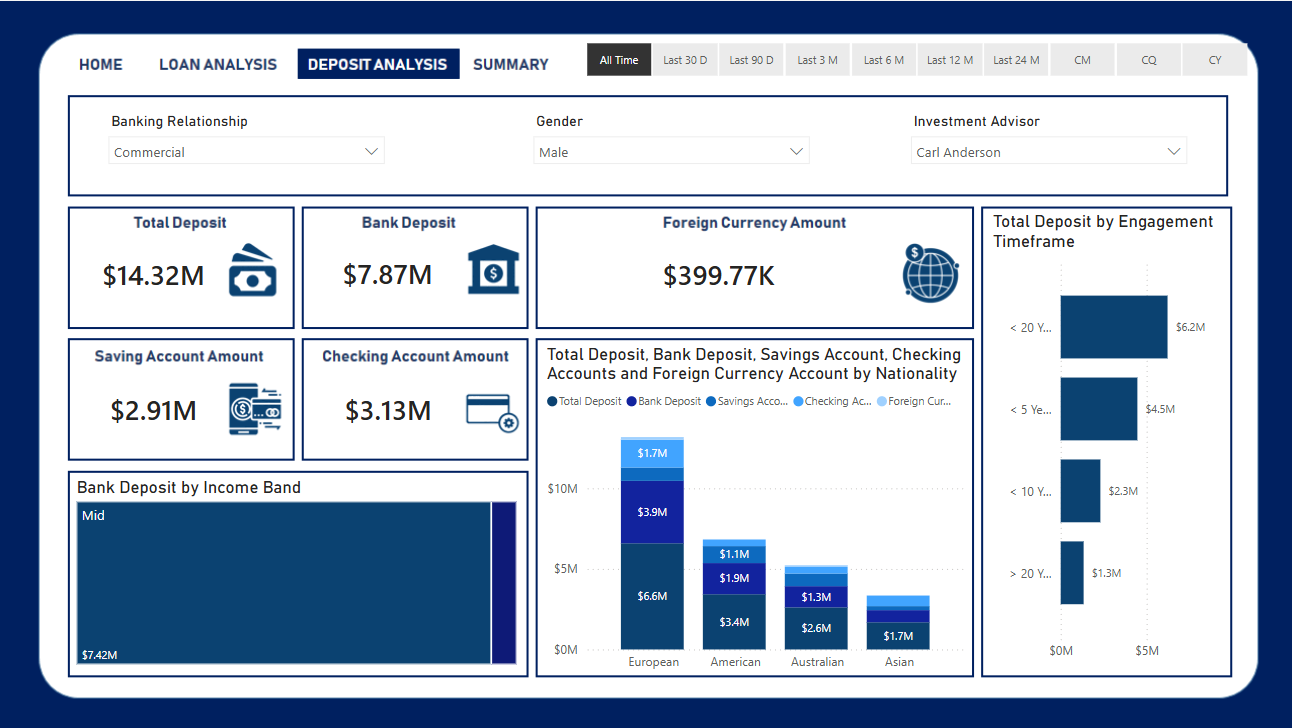

The page's visual inventory and layout, read from the dashboard file:
{"tool":"powerbi","page":{"name":"Deposit Analysis","canvas":[1280,720],"ordinal":2},"visuals":[{"type":"card","fields":{"Values":["DAX Measures.Total Deposit"]},"box":[72.7,226.3,161.8,90.3],"z":0},{"type":"card","fields":{"Values":["DAX Measures.Bank Deposit"]},"box":[299,226.3,172.4,89.1],"z":1000},{"type":"card","fields":{"Values":["DAX Measures.Savings Account"]},"box":[72.7,360,161.8,89.1],"z":2000},{"type":"card","fields":{"Values":["DAX Measures.Checking Accounts"]},"box":[300.2,360,171.2,89.1],"z":3000},{"type":"slicer","fields":{"Values":["Banking Relationship.Banking Relationship"]},"box":[98.5,105.2,292.9,75.7],"z":4000},{"type":"slicer","fields":{"Values":["Gender.Gender"]},"box":[518.9,105.2,292.9,75.7],"z":5000},{"type":"slicer","fields":{"Values":["Investment Advisor.Investment Advisor"]},"box":[891.3,105.2,292.9,75.7],"z":6000},{"type":"card","fields":{"Values":["DAX Measures.Foreign Currency Account"]},"box":[537.1,227.5,349.4,89.1],"z":7000},{"type":"treemap","fields":{"Group":["Clients - Banking.Income Band"],"Values":["DAX Measures.Bank Deposit"]},"box":[72.7,470.2,444.4,190],"z":8000},{"type":"columnChart","fields":{"Category":["Clients - Banking.Nationality"],"Y":["DAX Measures.Total Deposit","DAX Measures.Bank Deposit","DAX Measures.Savings Account","DAX Measures.Checking Accounts","DAX Measures.Foreign Currency Account"]},"box":[537.1,338.9,423.3,331.9],"z":9000},{"type":"clusteredBarChart","fields":{"Category":["Clients - Banking.Engagement Timeframe"],"Y":["DAX Measures.Total Deposit"]},"box":[978,207.6,234.5,452.6],"z":10000},{"type":"slicer","fields":{"Values":["Period.Name"]},"box":[555.2,34.6,702.1,46.6],"z":11000},{"type":"actionButton","box":[72.8,44.2,58.5,31],"z":12000},{"type":"actionButton","box":[160,44.2,119.4,31],"z":13000},{"type":"actionButton","box":[471.6,44.2,83.6,31],"z":14000}]}

Visuals, with their boxes in screenshot pixels (x1, y1, x2, y2), scaled from the page's 1280x720 canvas onto the 1292x728 screenshot:
card - DAX Measures.Total Deposit: l=73, t=229, r=237, b=320
card - DAX Measures.Bank Deposit: l=302, t=229, r=476, b=319
card - DAX Measures.Savings Account: l=73, t=364, r=237, b=454
card - DAX Measures.Checking Accounts: l=303, t=364, r=476, b=454
slicer - Banking Relationship.Banking Relationship: l=99, t=106, r=395, b=183
slicer - Gender.Gender: l=524, t=106, r=819, b=183
slicer - Investment Advisor.Investment Advisor: l=900, t=106, r=1195, b=183
card - DAX Measures.Foreign Currency Account: l=542, t=230, r=895, b=320
treemap - Clients - Banking.Income Band x DAX Measures.Bank Deposit: l=73, t=475, r=522, b=668
columnChart - Clients - Banking.Nationality x DAX Measures.Total Deposit: l=542, t=343, r=969, b=678
clusteredBarChart - Clients - Banking.Engagement Timeframe x DAX Measures.Total Deposit: l=987, t=210, r=1224, b=668
slicer - Period.Name: l=560, t=35, r=1269, b=82
actionButton: l=73, t=45, r=133, b=76
actionButton: l=162, t=45, r=282, b=76
actionButton: l=476, t=45, r=560, b=76
